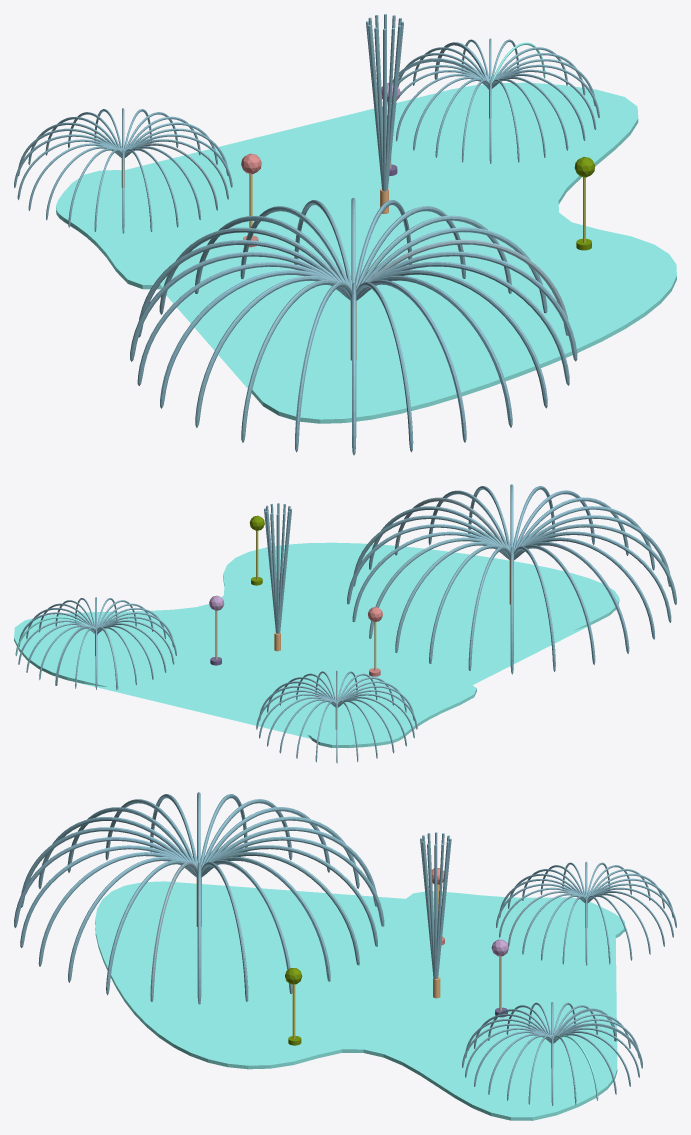
The model's file is WaterPark.fbx.
3 views of the same model, one above another, from view 1: azimuth 30°, elevation 25°; view 2: azimuth 150°, elevation 25°; view 3: azimuth 270°, elevation 25° (orthographic). The views are drawn at different scales.
Parts seen in each view (by area): view 1: WaterPark; view 2: WaterPark; view 3: WaterPark.
Boxes of the visible parts, x1,y1,x2,y2 form: WaterPark: [14, 14, 676, 455]; WaterPark: [14, 484, 676, 763]; WaterPark: [14, 792, 676, 1120].
Size of the model in its own units: 494 by 142 by 514.
